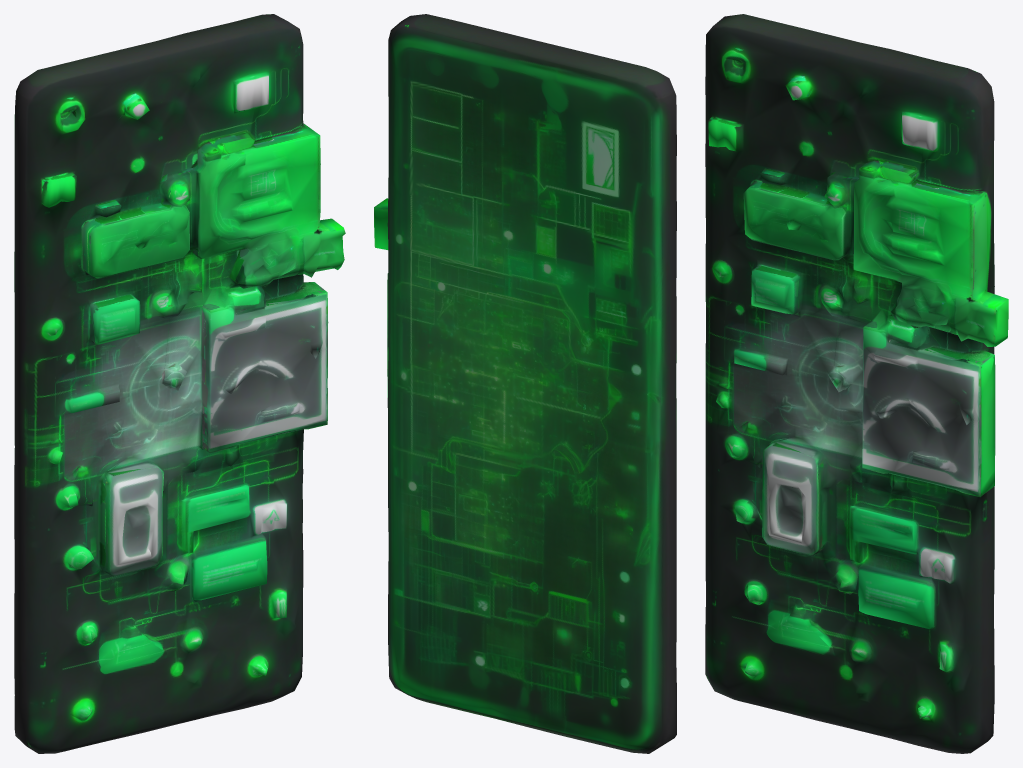
File: floating_translucent__1019161517_texture.obj
The picture shows the model from 3 angles, left to right: view 1: azimuth 30°, elevation 25°; view 2: azimuth 150°, elevation 25°; view 3: azimuth 330°, elevation 25°; orthographic projection.
Parts seen in each view (by area): view 1: floating_translucent__1019161517_texture; view 2: floating_translucent__1019161517_texture; view 3: floating_translucent__1019161517_texture.
Part boxes in pixels (x1,y1,x2,y2): floating_translucent__1019161517_texture: (14, 14, 345, 753); floating_translucent__1019161517_texture: (374, 14, 676, 753); floating_translucent__1019161517_texture: (705, 14, 1008, 753).
Bounding box in the file's own units: 0.9125 × 1.91 × 0.174.
